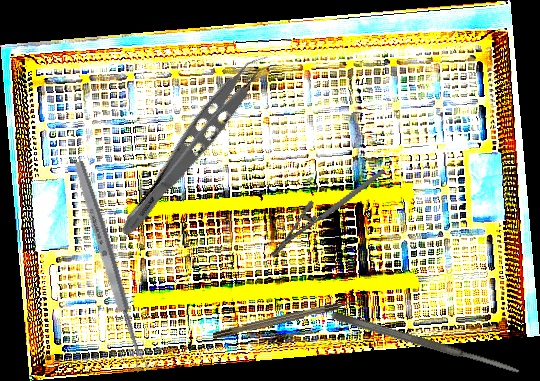Hook Surgical: (212, 296, 364, 340)
Needle Holder: (255, 168, 400, 260)
Spatula Surgical: (329, 309, 523, 378)
Surgical Spoon: (71, 159, 150, 374)
Tissue Forceps: (115, 43, 280, 250)
